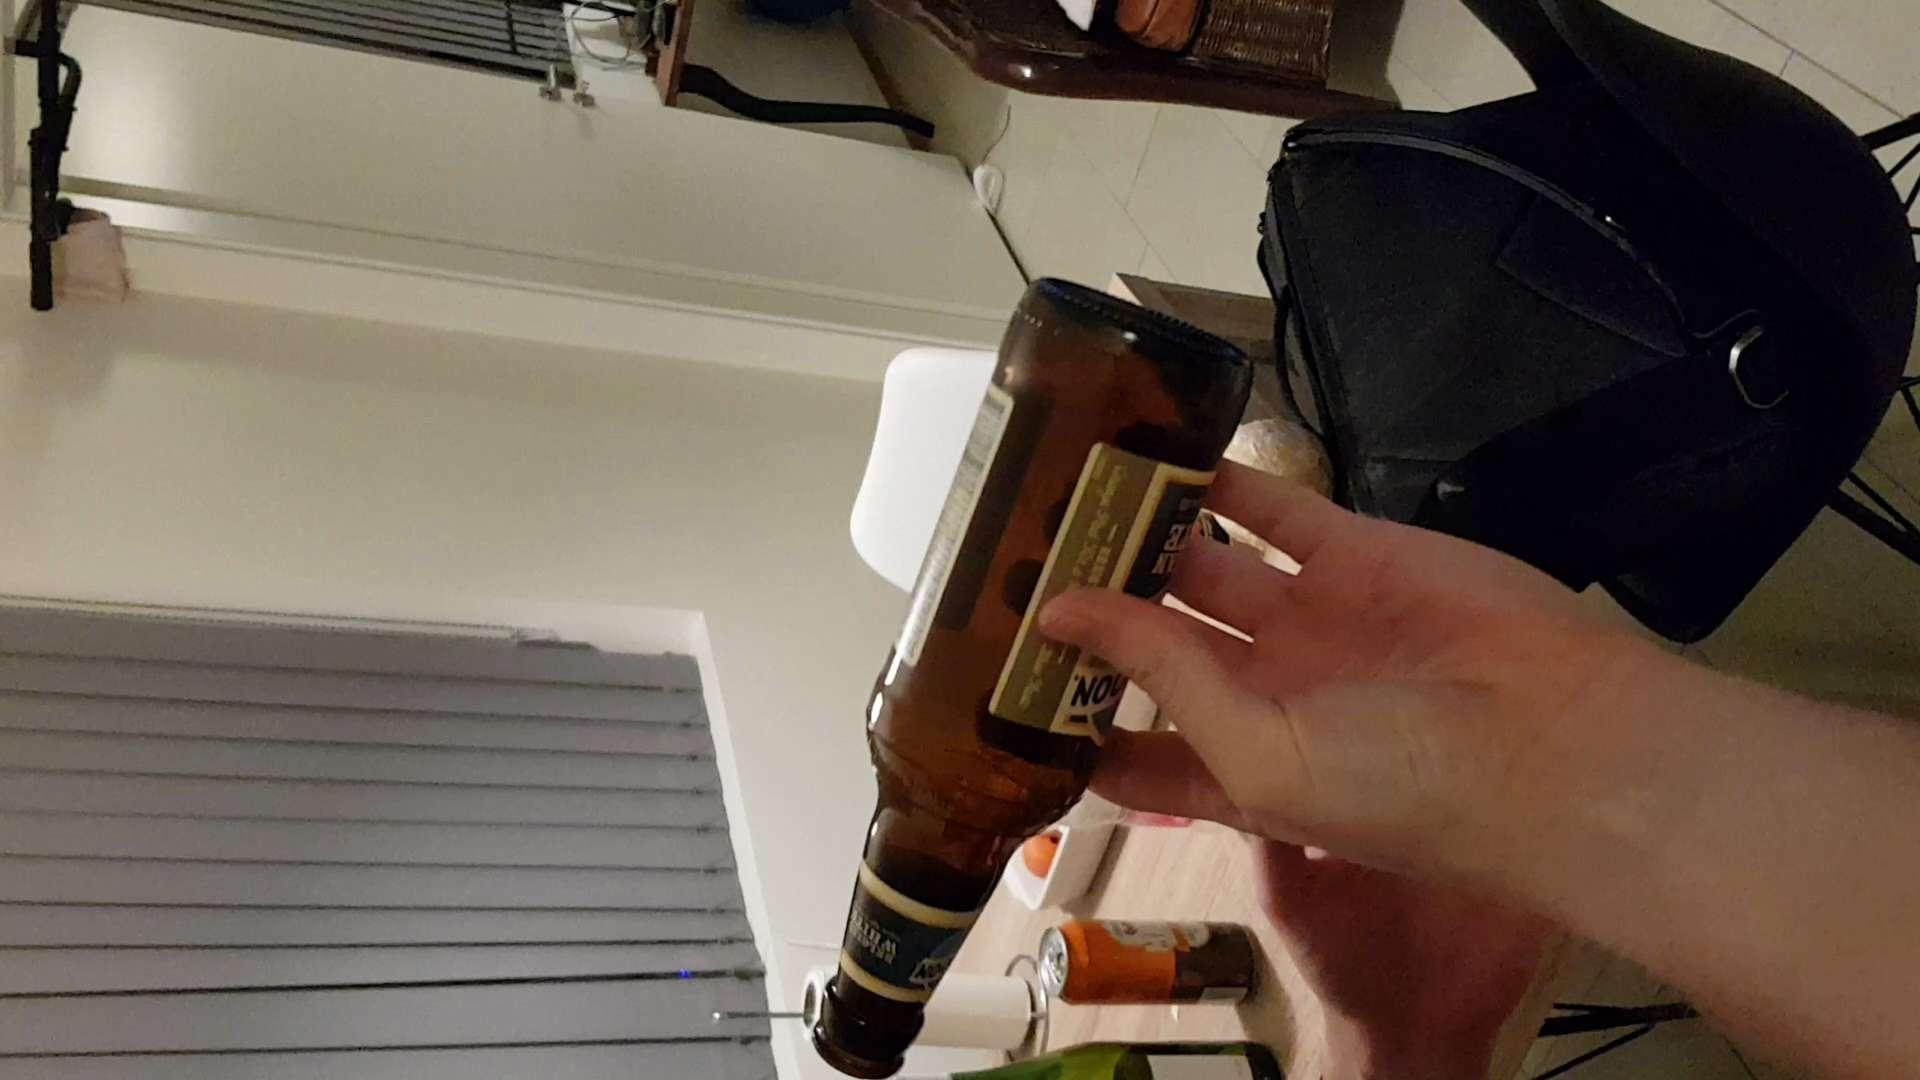Bottle: (796, 261, 1257, 1069)
Can: (1021, 919, 1275, 1007)
